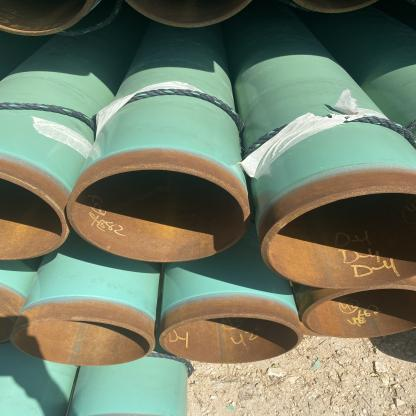clean: (126, 152, 160, 184)
